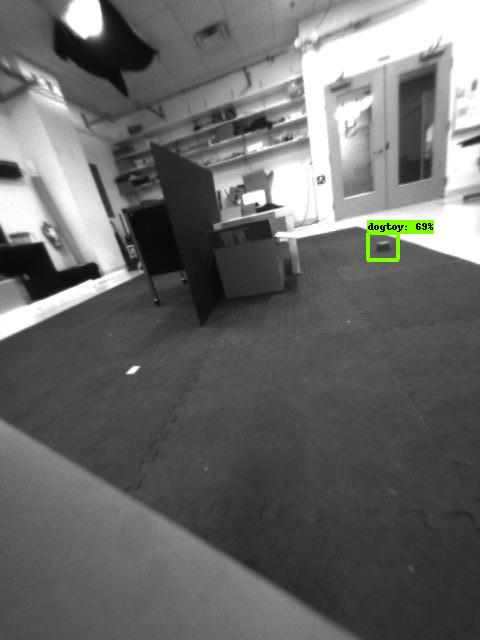dogtoy: (363, 236, 405, 263)
